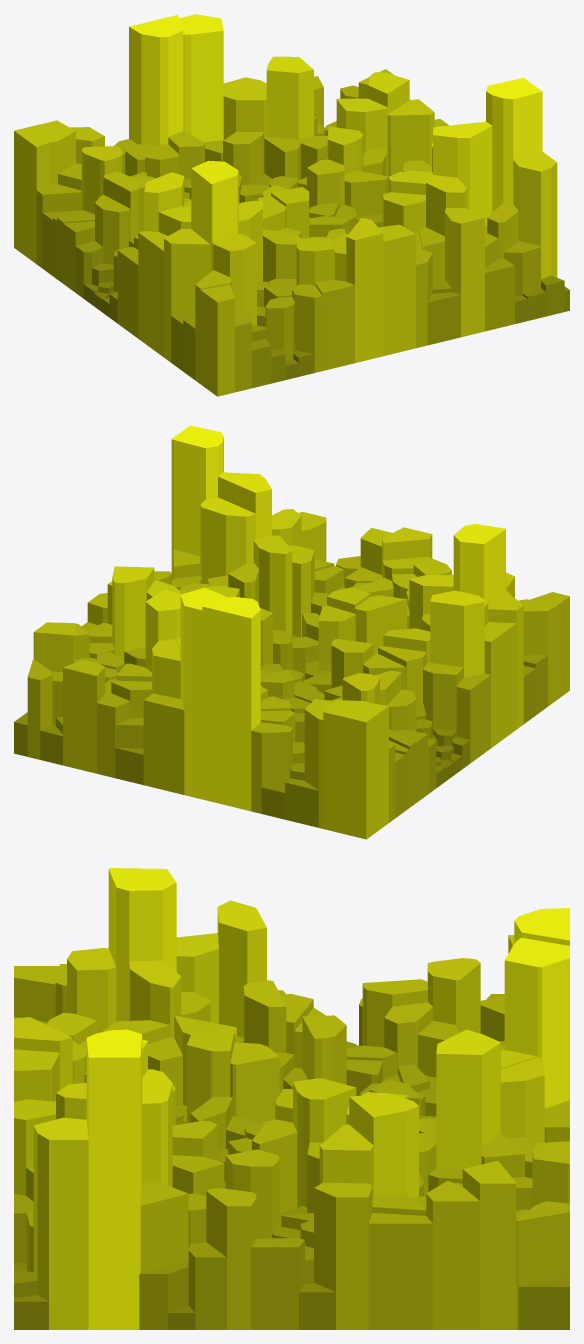
File: VTOWN.fbx
3 renders of one model, top to bottom at view 1: azimuth 30°, elevation 25°; view 2: azimuth 150°, elevation 25°; view 3: azimuth 270°, elevation 25°, orthographic. The views are drawn at different scales.
Visible parts, largest first — view 1: vtown_251, vtown_103, vtown_214, vtown_205, vtown_207, vtown_100, vtown_177, vtown_6, vtown_211, vtown_51, vtown_206, vtown_69 (+57 smaller); view 2: vtown_251, vtown_51, vtown_103, vtown_214, vtown_159, vtown_276, vtown_179, vtown_147, vtown_230, vtown_244, vtown_200, vtown_40 (+56 smaller); view 3: vtown_103, vtown_207, vtown_214, vtown_211, vtown_37, vtown_154, vtown_230, vtown_162, vtown_58, vtown_200, vtown_161, vtown_159 (+55 smaller).
Boxes of the visible parts, x1,y1,x2,y2 form: vtown_251: [129, 15, 183, 146]; vtown_103: [486, 78, 542, 212]; vtown_214: [179, 14, 223, 142]; vtown_205: [346, 218, 383, 362]; vtown_207: [513, 151, 557, 279]; vtown_100: [445, 208, 484, 337]; vtown_177: [433, 121, 492, 226]; vtown_6: [378, 224, 415, 356]; vtown_211: [266, 56, 313, 139]; vtown_51: [14, 124, 50, 263]; vtown_206: [200, 284, 234, 396]; vtown_69: [164, 229, 210, 362]; vtown_251: [202, 596, 260, 811]; vtown_51: [340, 703, 388, 839]; vtown_103: [171, 425, 223, 580]; vtown_214: [180, 587, 228, 799]; vtown_159: [430, 590, 484, 677]; vtown_276: [63, 659, 105, 773]; vtown_179: [143, 693, 184, 794]; vtown_147: [200, 497, 255, 583]; vtown_230: [453, 524, 505, 601]; vtown_244: [484, 622, 516, 747]; vtown_200: [112, 566, 154, 660]; vtown_40: [253, 535, 292, 634]; vtown_103: [86, 1029, 142, 1329]; vtown_207: [33, 1117, 88, 1329]; vtown_214: [504, 937, 569, 1108]; vtown_211: [436, 1029, 500, 1168]; vtown_37: [368, 1212, 432, 1329]; vtown_154: [314, 1182, 372, 1329]; vtown_230: [108, 868, 176, 1021]; vtown_162: [426, 1181, 479, 1329]; vtown_58: [462, 1161, 516, 1329]; vtown_200: [349, 1093, 418, 1198]; vtown_161: [206, 1188, 256, 1329]; vtown_159: [217, 900, 266, 1037].
Size of the model in its own units: 100 by 100 by 54.
